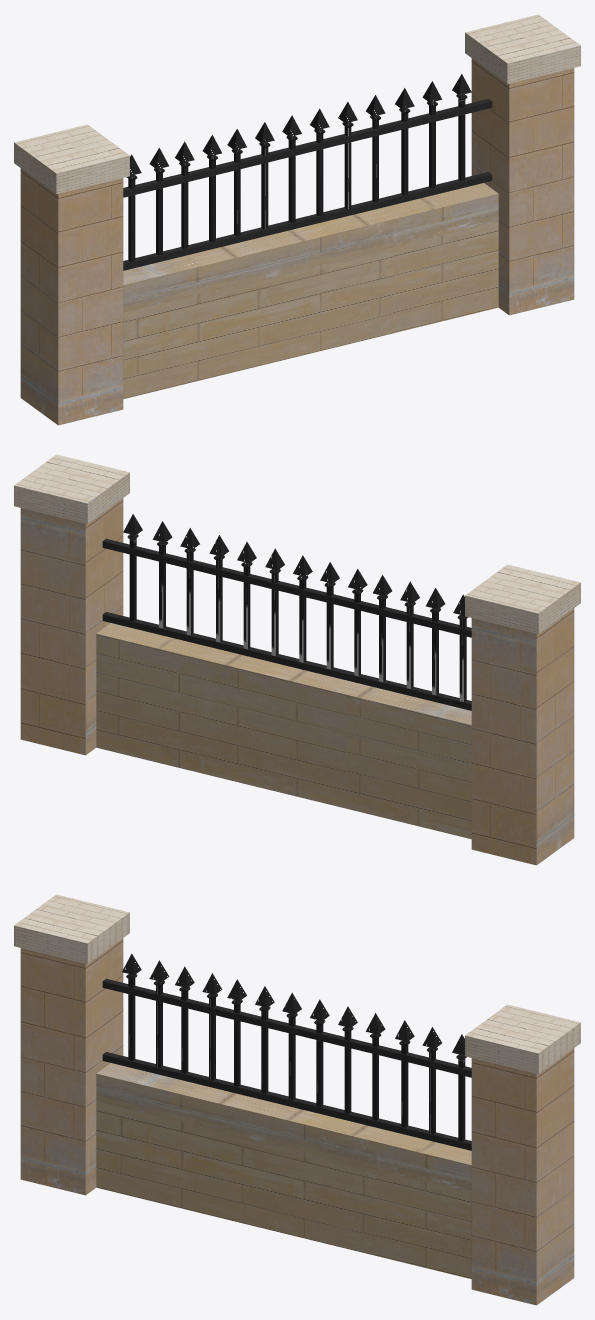
The model's file is muro_grade.glb.
3 renders of one model, top to bottom at view 1: azimuth 30°, elevation 25°; view 2: azimuth 150°, elevation 25°; view 3: azimuth 330°, elevation 25°, orthographic.
Visible parts, largest first — view 1: phong2SG, phong1SG, phong5SG, phong3SG, phong4SG; view 2: phong2SG, phong1SG, phong5SG, phong3SG, phong4SG; view 3: phong2SG, phong1SG, phong5SG, phong3SG, phong4SG.
Boxes of the visible parts, x1,y1,x2,y2 form: phong2SG: (123,183,498,398); phong1SG: (20,58,574,425); phong5SG: (14,14,580,194); phong3SG: (126,74,471,261); phong4SG: (123,98,492,270); phong2SG: (96,623,471,838); phong1SG: (20,498,574,865); phong5SG: (14,454,580,634); phong3SG: (123,514,468,701); phong4SG: (102,538,471,710); phong2SG: (96,1063,471,1278); phong1SG: (20,938,574,1305); phong5SG: (14,894,580,1074); phong3SG: (122,953,466,1141); phong4SG: (102,978,471,1150).
Bounding box in the file's own units: 11.63 × 5.4 × 1.63.
5 materials, 5 textured.
